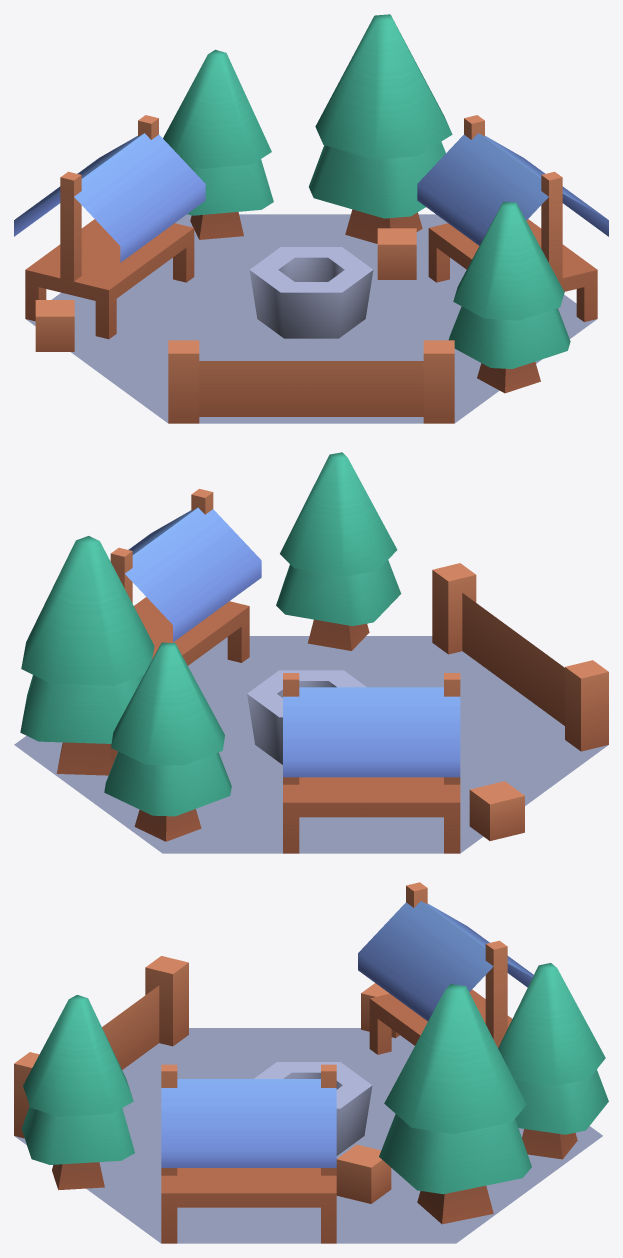
The model's file is market.fbx.
The picture shows the model from 3 angles, top to bottom: view 1: azimuth 30°, elevation 25°; view 2: azimuth 150°, elevation 25°; view 3: azimuth 270°, elevation 25°; orthographic projection. The views are drawn at different scales.
Visible parts, largest first — view 1: building_market; view 2: building_market; view 3: building_market.
Part boxes in pixels (<box>): building_market: <box>14,14,608,423</box>; building_market: <box>14,452,608,853</box>; building_market: <box>14,882,608,1243</box>.
Bounding box in the file's own units: 86.96 × 38 × 93.26.
